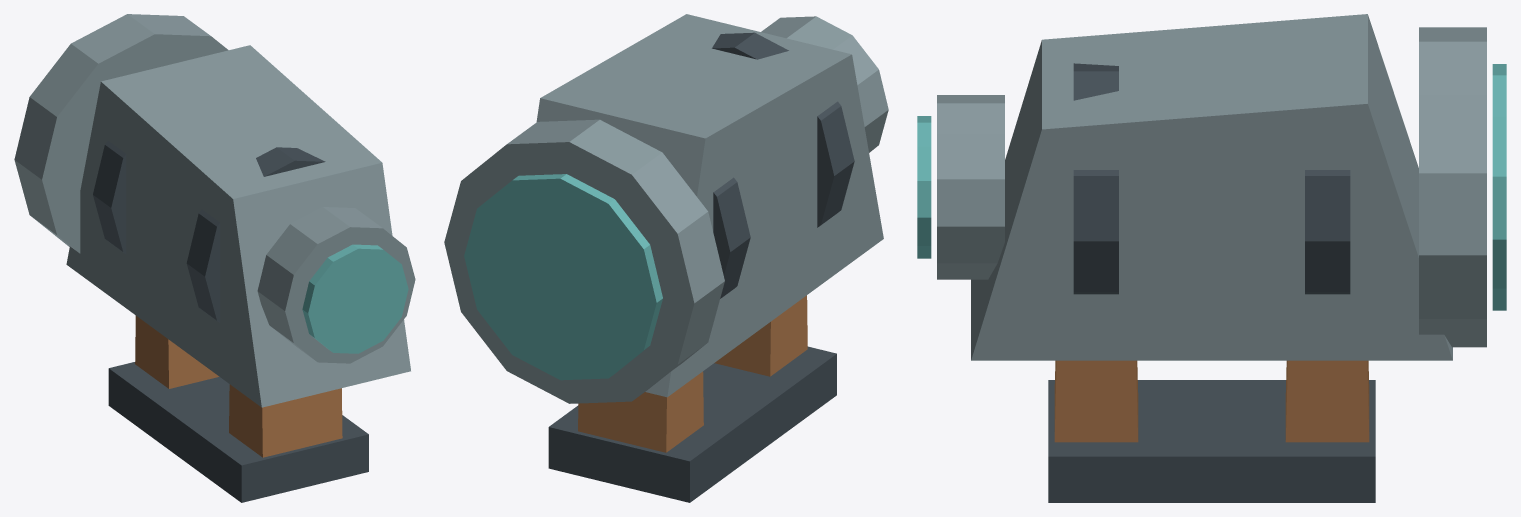
File: AEW_Scope_MoonPrism.fbx
The picture shows the model from 3 angles, left to right: view 1: azimuth 30°, elevation 25°; view 2: azimuth 150°, elevation 25°; view 3: azimuth 270°, elevation 25°; orthographic projection. The views are drawn at different scales.
Visible parts, largest first — view 1: AEW_Scope_MoonPrism; view 2: AEW_Scope_MoonPrism; view 3: AEW_Scope_MoonPrism.
Part boxes in pixels (x1=…): AEW_Scope_MoonPrism: x1=14, y1=14, x2=415, y2=502; AEW_Scope_MoonPrism: x1=444, y1=14, x2=888, y2=502; AEW_Scope_MoonPrism: x1=917, y1=14, x2=1506, y2=502.
Size of the model in its own units: 0.1134 by 0.1647 by 0.208.
